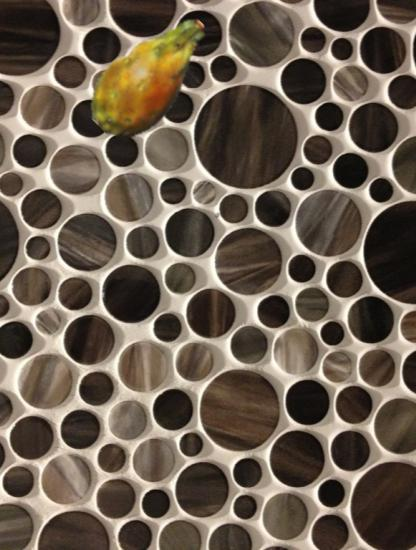Cactus: (79, 3, 225, 149)
